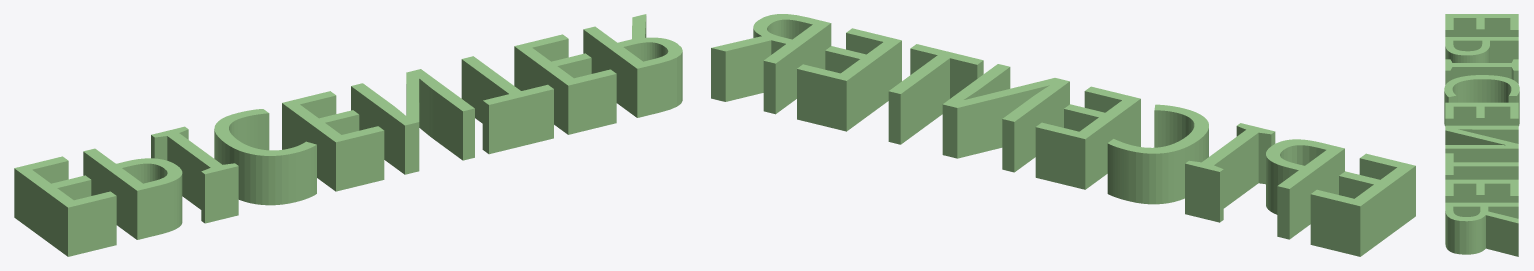
File: tinker.obj
3 renders of one model, left to right at view 1: azimuth 30°, elevation 25°; view 2: azimuth 150°, elevation 25°; view 3: azimuth 270°, elevation 25°, orthographic. The views are drawn at different scales.
Parts seen in each view (by area): view 1: obj_0; view 2: obj_0; view 3: obj_0.
Boxes of the visible parts, x1,y1,x2,y2 form: obj_0: [14, 14, 682, 256]; obj_0: [711, 14, 1415, 256]; obj_0: [1444, 14, 1519, 256].
Bounding box in the file's own units: 134 × 10 × 20.4.
